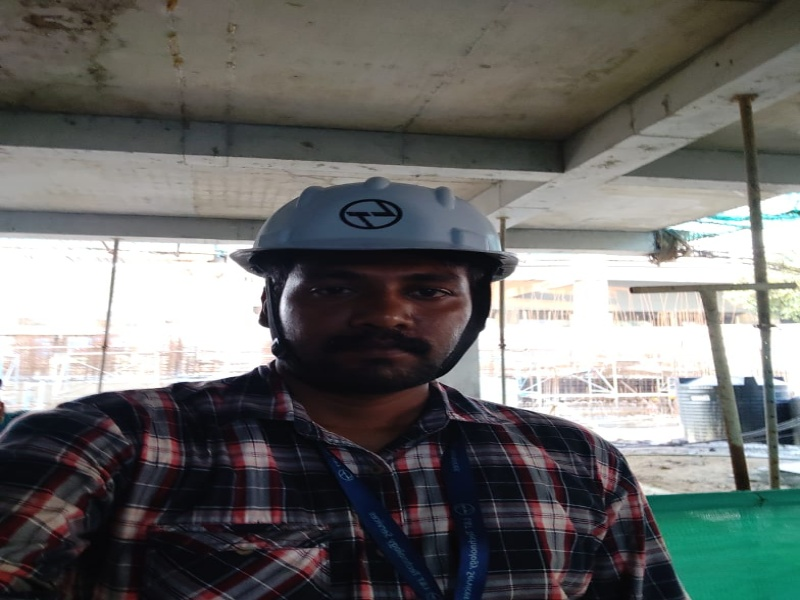Face: (223, 175, 529, 265)
